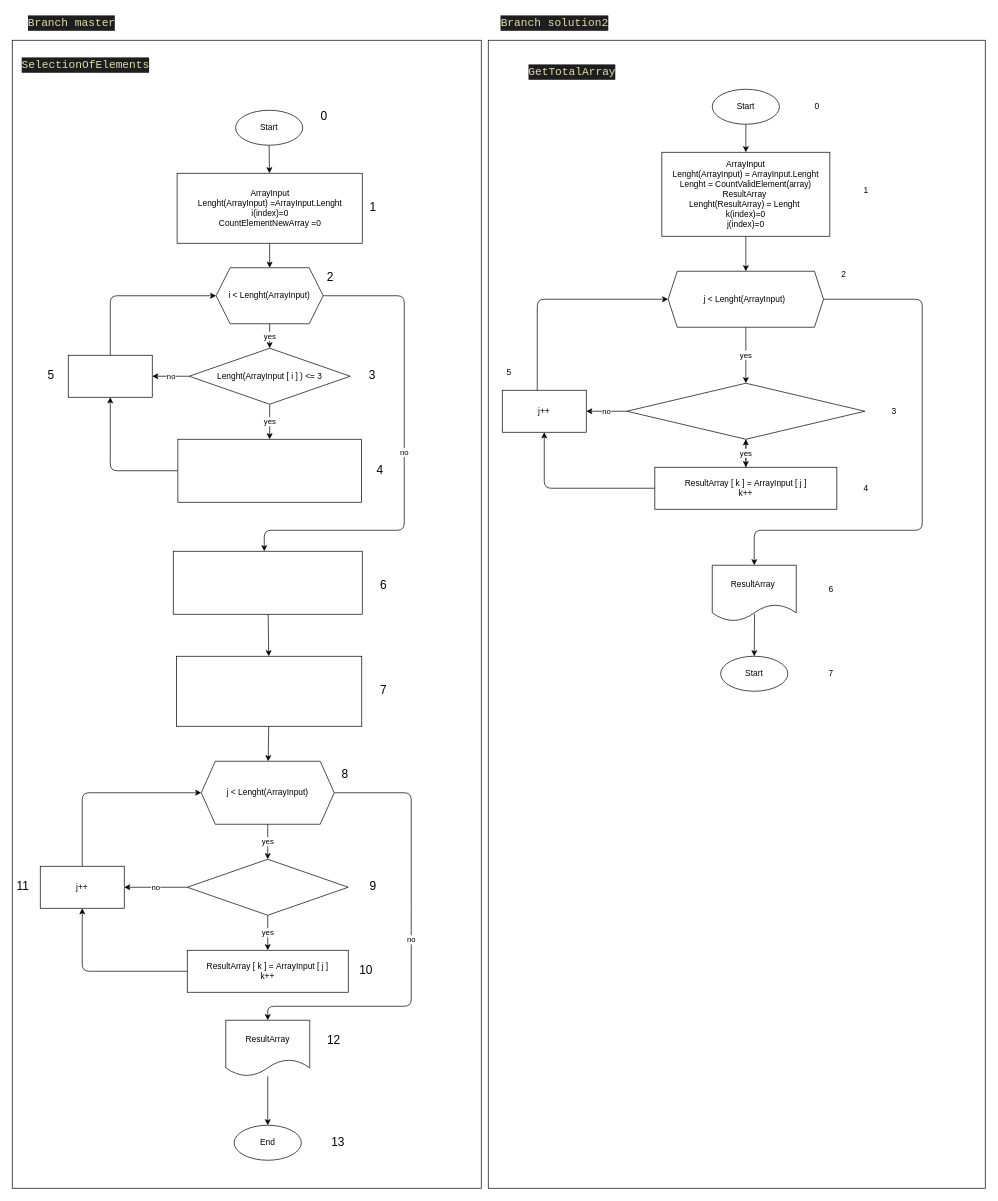
This 998x1201 diagram has some shape labels left out. Here are the shapes that lost their labels. From the top down, the box of each, then its label:
(68, 355, 152, 397): i++
(626, 383, 865, 439): Lenght(ArrayInput [ j ]) <=3
(177, 439, 361, 502): countElementNewArray++
(173, 551, 362, 614): ResultArray Lenght(ResultArray) = countElementNewArray
(176, 656, 362, 726): ArrayInput Lenght(ArrayInput) =ArrayInput.Lenght j(index)=0 k(index)=0
(187, 859, 348, 915): Lenght(ArrayInput [ j ] ) <= 3
